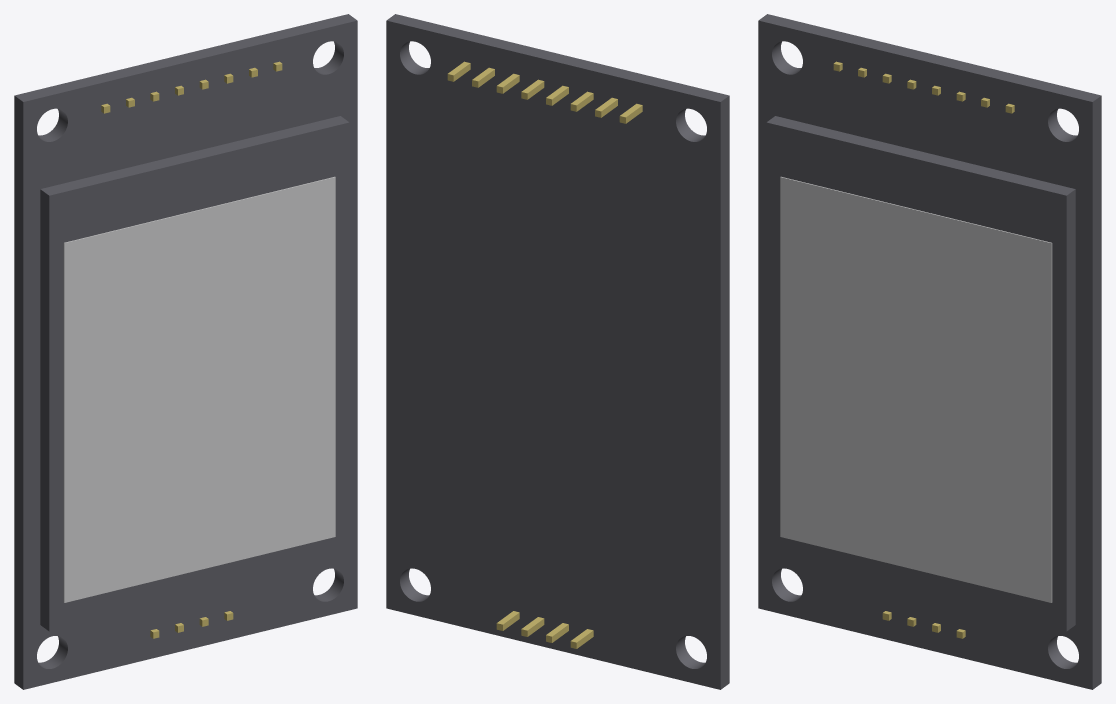
File: msp1803.glb
3 renders of one model, left to right at view 1: azimuth 30°, elevation 25°; view 2: azimuth 150°, elevation 25°; view 3: azimuth 330°, elevation 25°, orthographic.
Parts seen in each view (by area): view 1: extra, housing, pins; view 2: extra, pins; view 3: extra, housing, pins.
Boxes of the visible parts, x1,y1,x2,y2 form: extra: [14, 14, 357, 689]; housing: [63, 176, 335, 602]; pins: [101, 61, 282, 638]; extra: [386, 14, 729, 689]; pins: [447, 61, 642, 648]; extra: [758, 14, 1101, 689]; housing: [780, 176, 1052, 602]; pins: [833, 61, 1014, 638].
Size of the model in its own units: 34.5 by 58 by 6.3.
